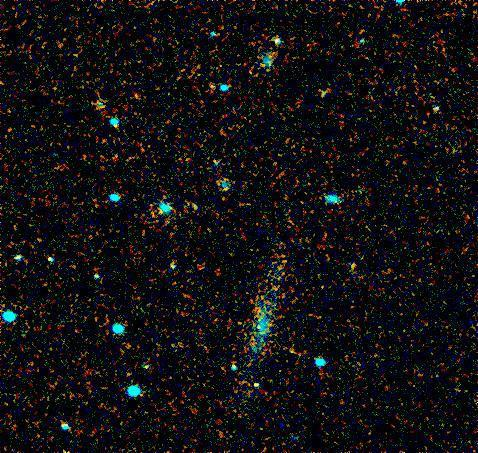star: (243, 371, 273, 401)
